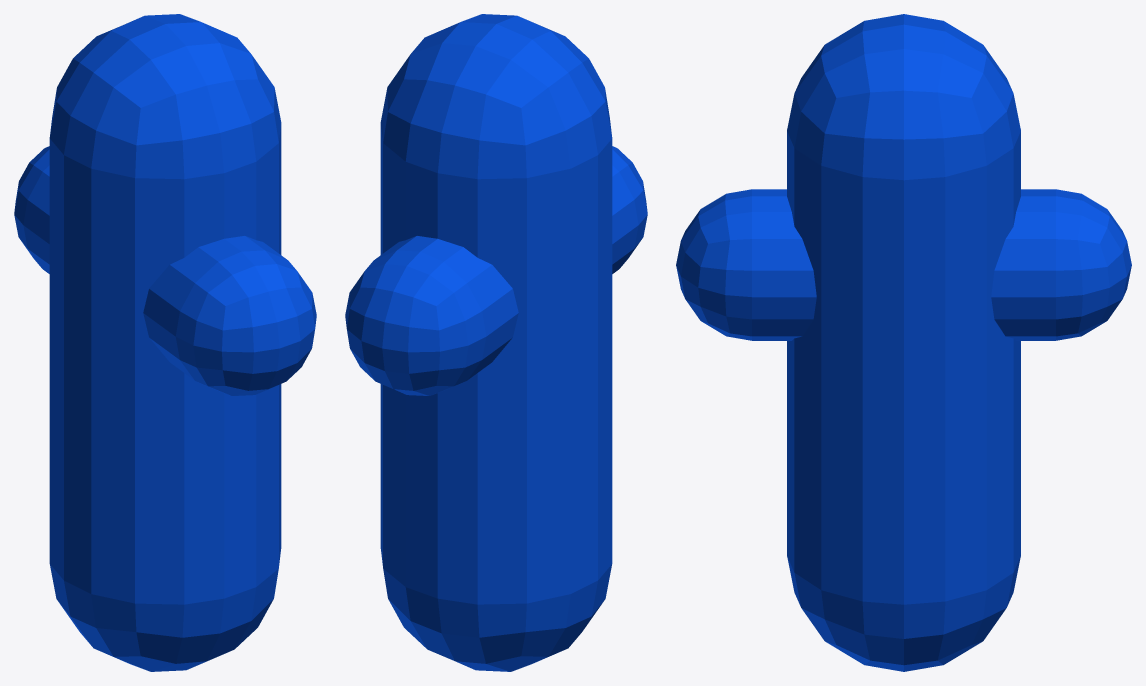
File: Humanoid_cactus.glb
3 views of the same model, side by side, from view 1: azimuth 30°, elevation 25°; view 2: azimuth 150°, elevation 25°; view 3: azimuth 270°, elevation 25° (orthographic).
Parts seen in each view (by area): view 1: cactus_geometry.002; view 2: cactus_geometry.002; view 3: cactus_geometry.002.
Part boxes in pixels (box(x1,y1,x2,y2)): cactus_geometry.002: box(14, 14, 316, 671); cactus_geometry.002: box(345, 14, 647, 671); cactus_geometry.002: box(676, 14, 1131, 671).
Size of the model in its own units: 2.28 by 6.84 by 4.44.
